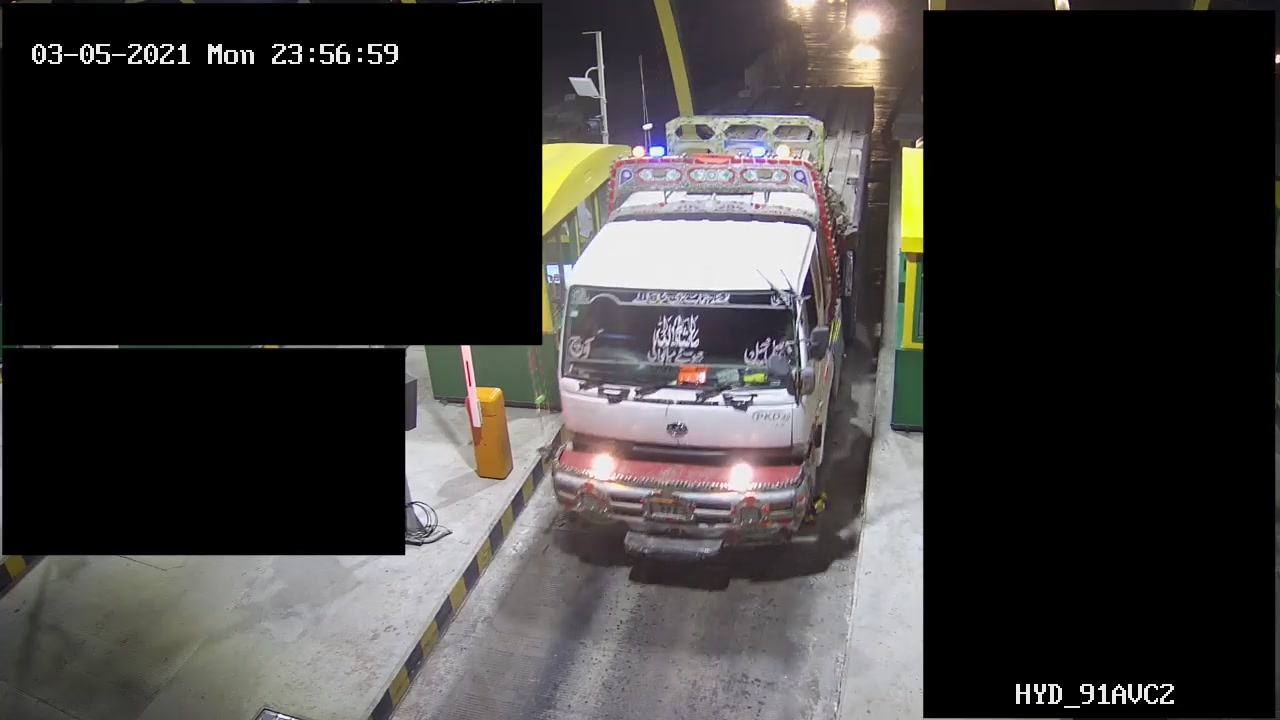F6: (538, 74, 886, 574)
